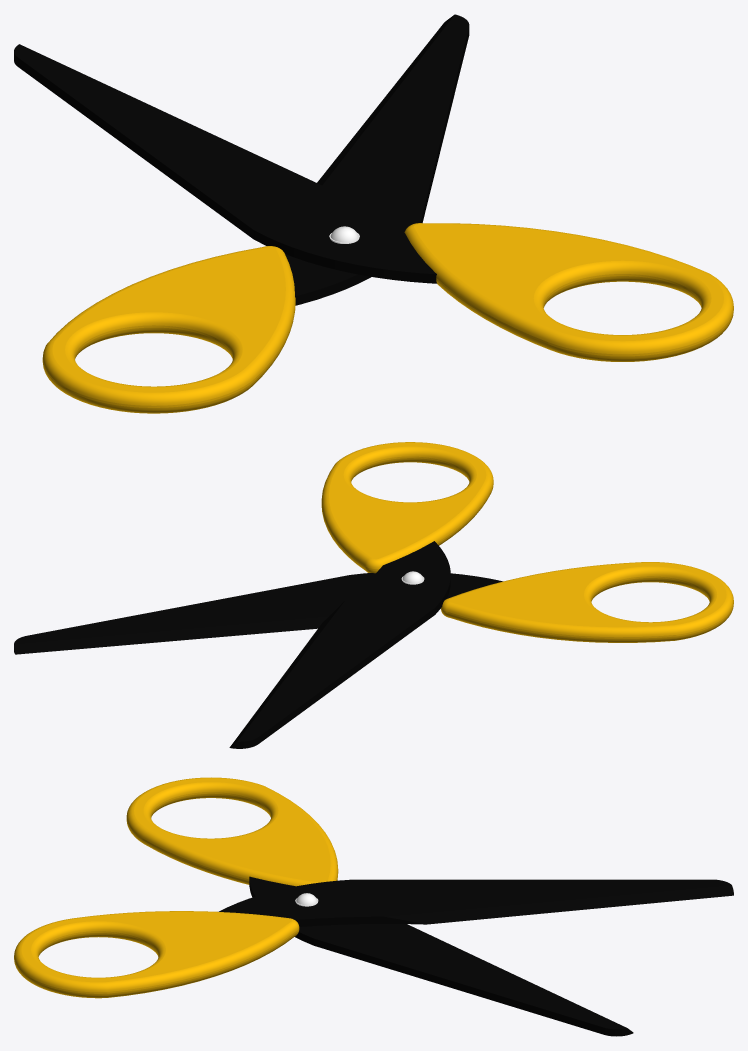
File: scissor_01_origin_gt_1.dae
3 views of the same model, one above another, from view 1: azimuth 30°, elevation 25°; view 2: azimuth 150°, elevation 25°; view 3: azimuth 270°, elevation 25° (orthographic). The views are drawn at different scales.
Visible parts, largest first — view 1: Component_8 (×4), Component_7 (×4); view 2: Component_8 (×4), Component_7 (×4); view 3: Component_7 (×4), Component_8 (×4).
Boxes of the visible parts, x1,y1,x2,y2 form: Component_8 (×4): (42,223,733,413); Component_7 (×4): (14,14,469,305); Component_8 (×4): (321,442,733,642); Component_7 (×4): (14,541,502,748); Component_7 (×4): (218,876,733,1036); Component_8 (×4): (14,777,338,998).
Size of the model in its own units: 6.6 by 8.03 by 0.3154.
